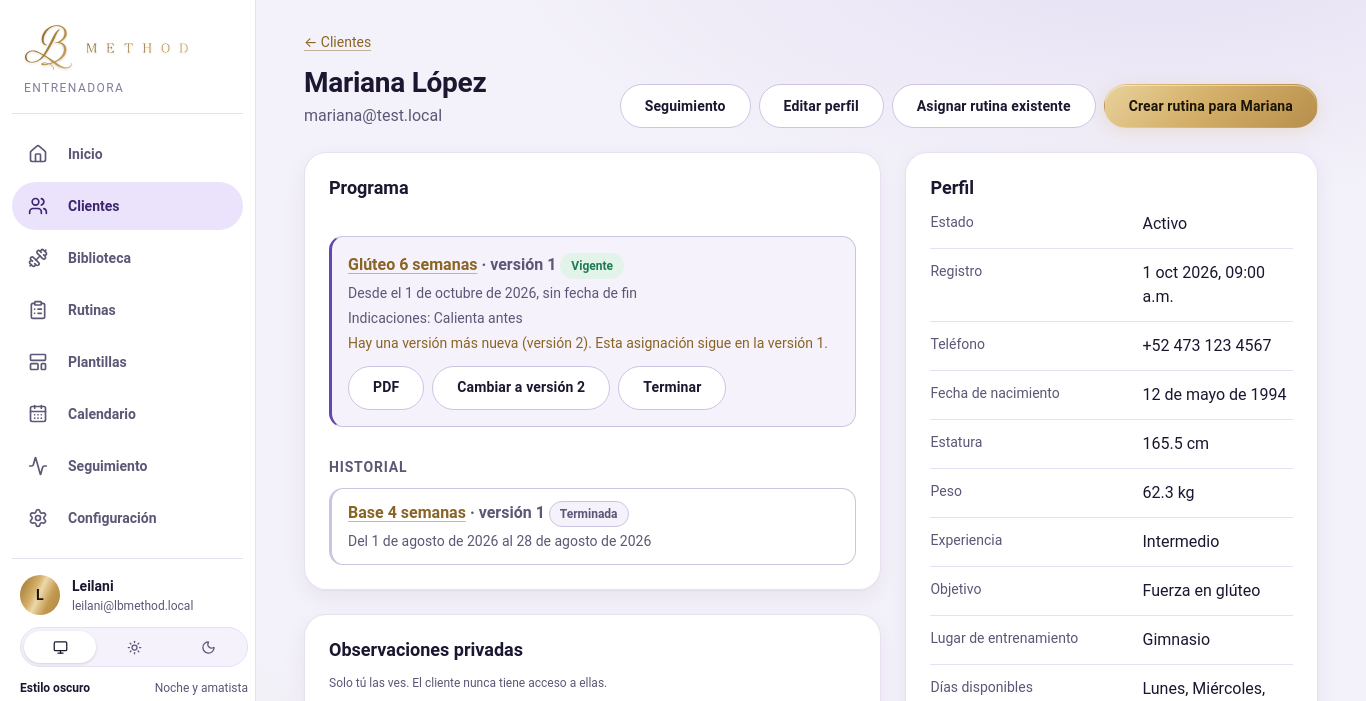
Test: clientes › terminar pide el último día y lo envía
Step 1. Click the button "Terminar" → (672, 388), box x1=618 y1=366 x2=726 y2=410
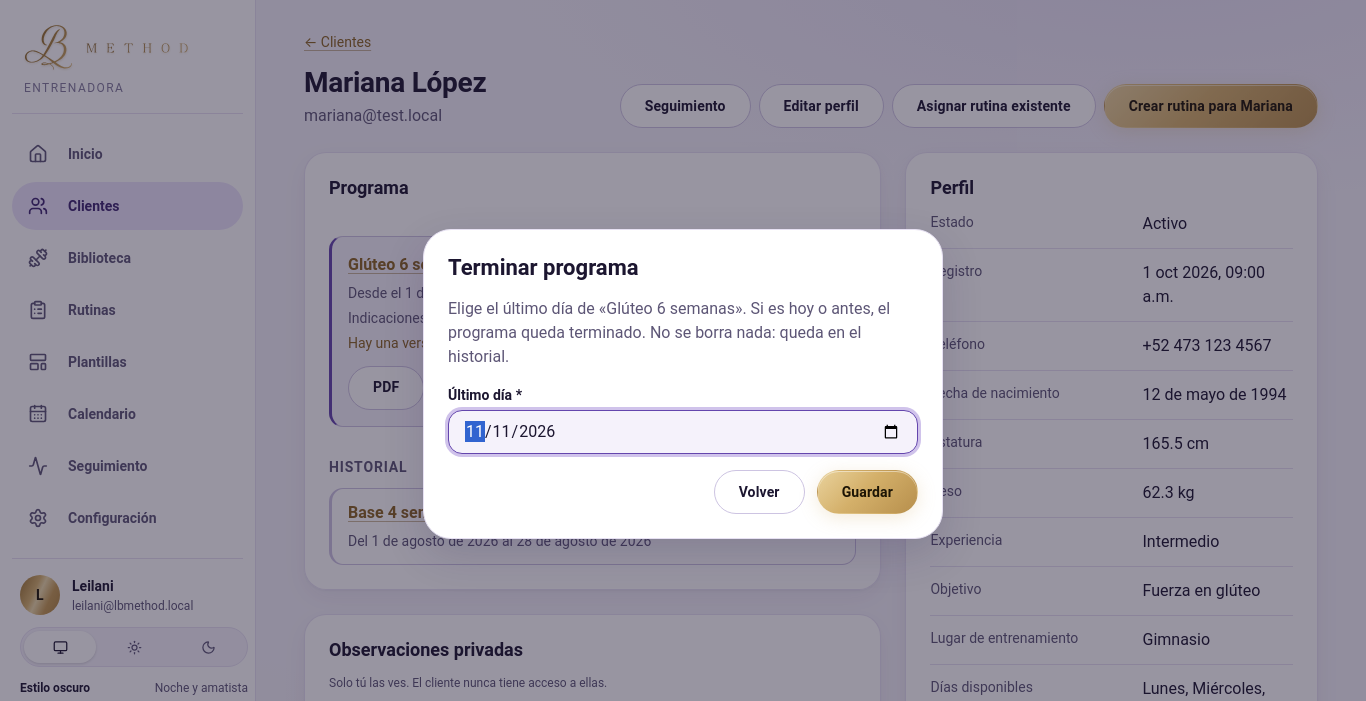
Step 2. Click the button "Guardar" → (867, 492), box x1=817 y1=470 x2=918 y2=514
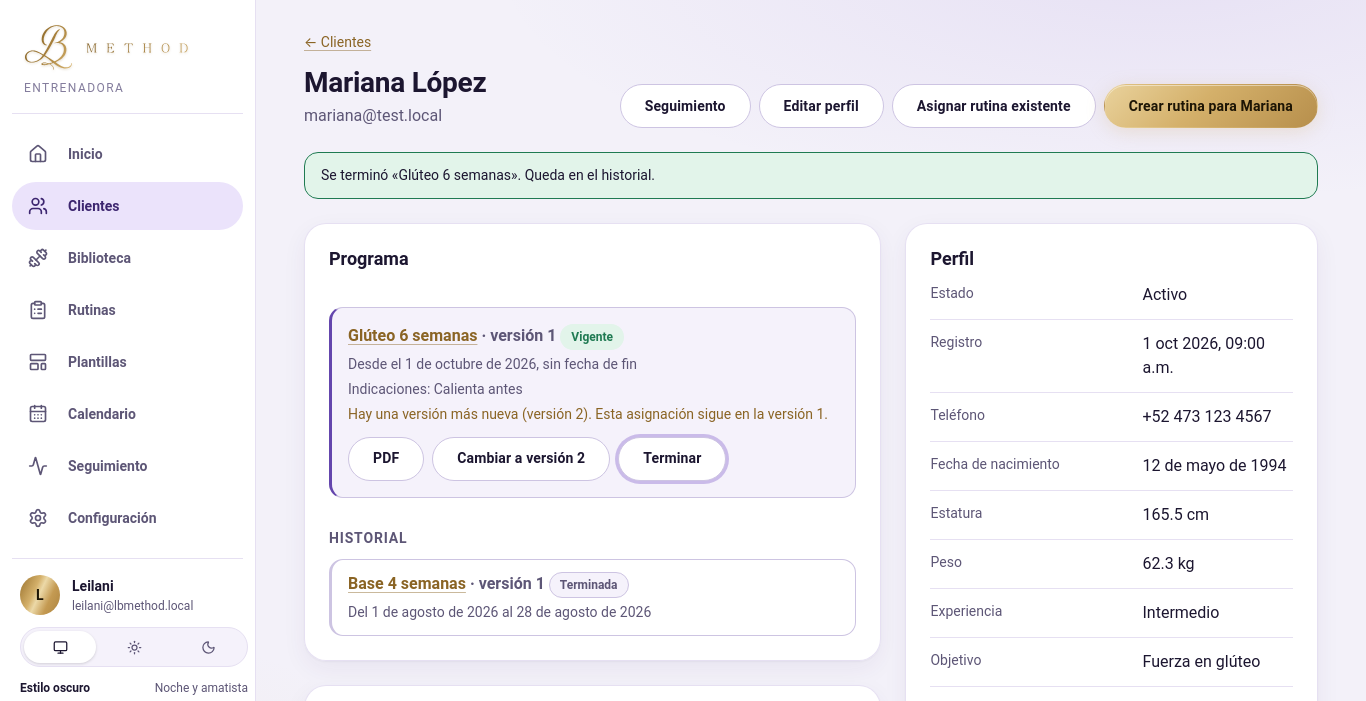
Expected: the text "Se terminó «Glúteo 6 semanas». Queda en el historial." is shown, x1=304 y1=152 x2=1318 y2=199
